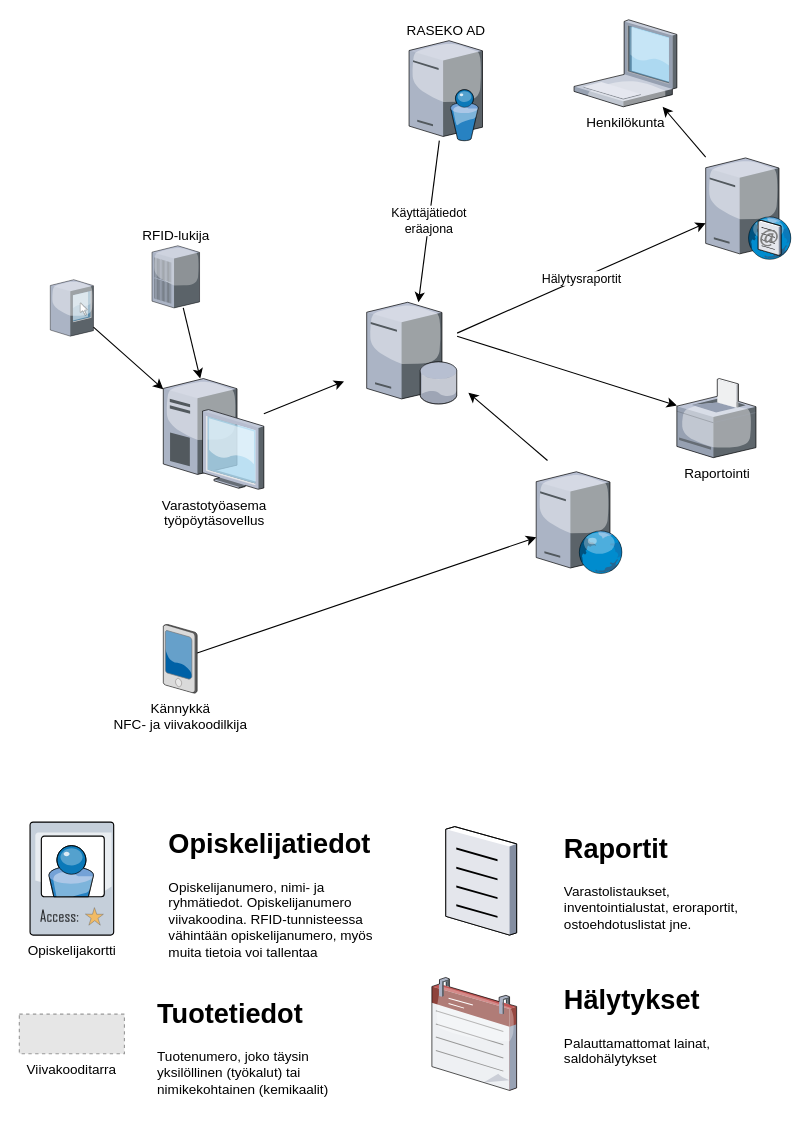
Some shapes in this 811 by 1146 pixel diagram are drawn without their labels. Grey dashed boxes stand in for pictures. Here are the shapes that lost their labels. From the top down, the box of each, then its label:
(705, 155, 791, 259): Postipalvelin
(50, 279, 93, 336): Viivakoodilukija
(366, 302, 457, 403): Varastohallinnan tietokanta
(536, 471, 622, 573): Web-sovellus
